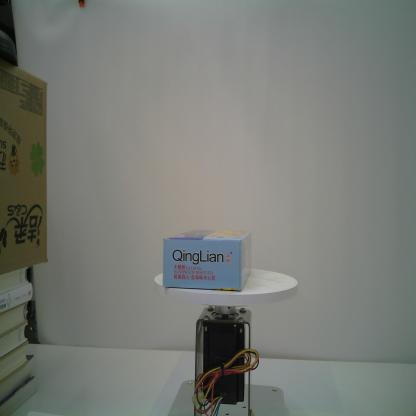Dessert: (162, 226, 252, 292)
